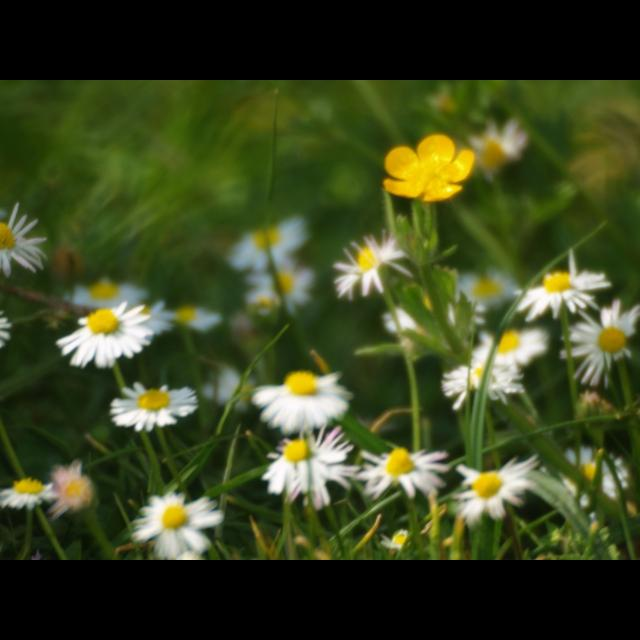Flower: (262, 427, 360, 508), (557, 298, 639, 392), (378, 134, 478, 210), (58, 300, 152, 368), (448, 461, 544, 527), (255, 369, 357, 431), (130, 493, 228, 557), (110, 374, 198, 442), (335, 230, 407, 300), (226, 214, 310, 270), (360, 447, 450, 497), (514, 274, 608, 318), (439, 358, 531, 400), (248, 263, 318, 313), (472, 322, 544, 370), (0, 207, 50, 275), (0, 476, 58, 512)
